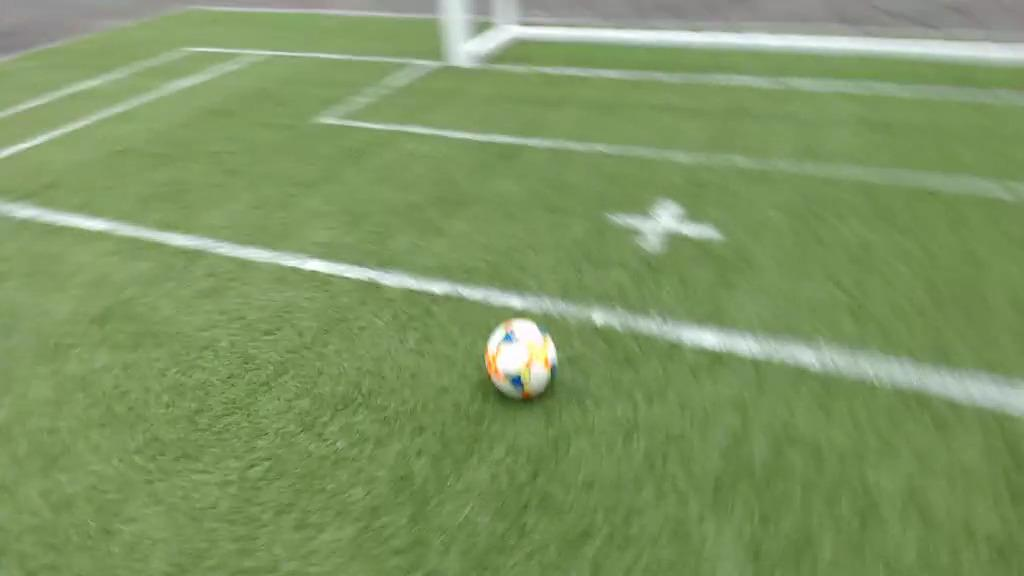ball: (473, 305, 576, 413)
